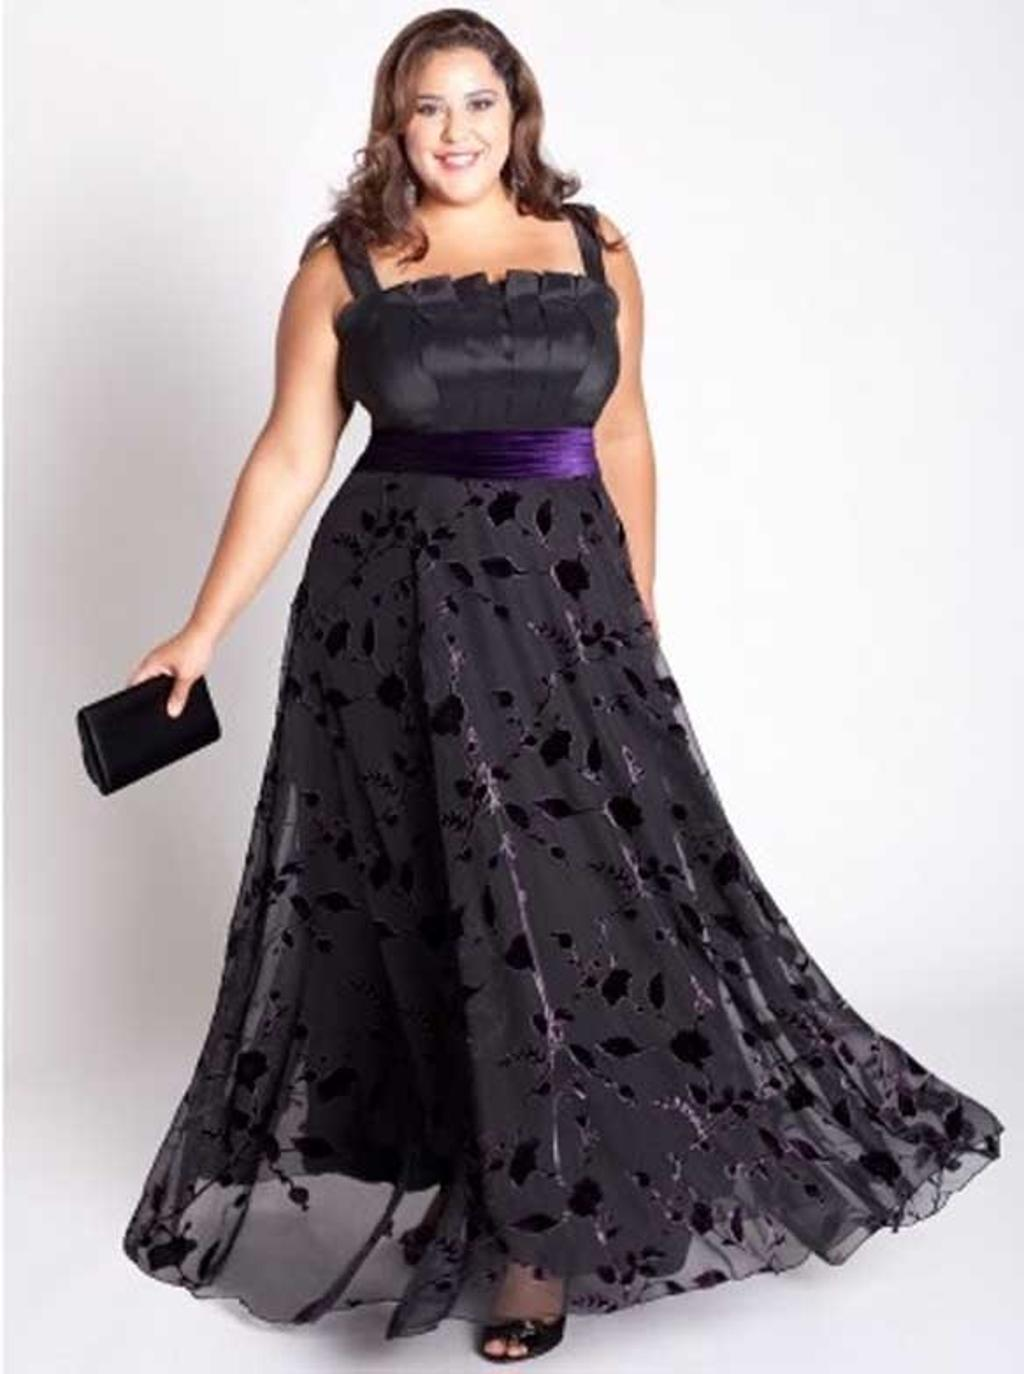face: (399, 43, 514, 201)
